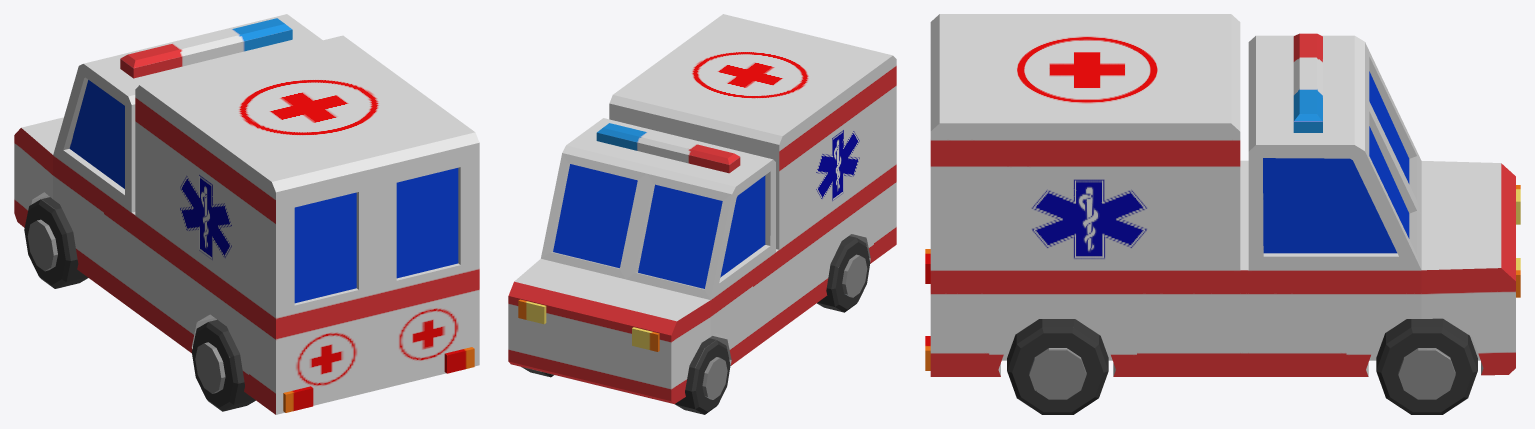
The model's file is low_poly_ambulance.glb.
3 renders of one model, left to right at view 1: azimuth 30°, elevation 25°; view 2: azimuth 150°, elevation 25°; view 3: azimuth 270°, elevation 25°, orthographic. The views are drawn at different scales.
Parts seen in each view (by area): view 1: Cube.002; view 2: Cube.002; view 3: Cube.002.
Part boxes in pixels (x1,y1,x2,y2): Cube.002: (14, 14, 479, 414); Cube.002: (508, 14, 896, 414); Cube.002: (925, 14, 1520, 414).
Size of the model in its own units: 483 by 544 by 1013.
Materials: 1 (1 with a texture image).
